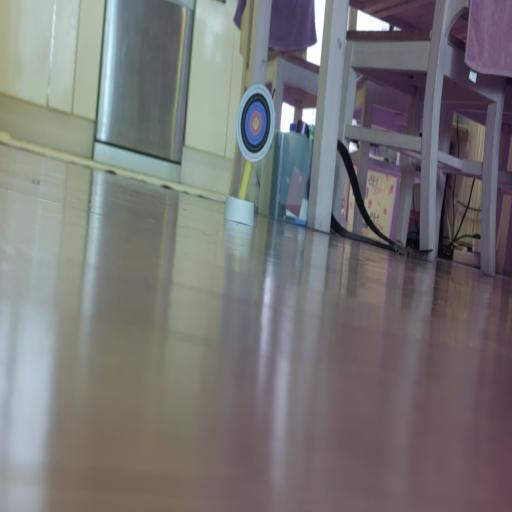target: (236, 84, 275, 162)
